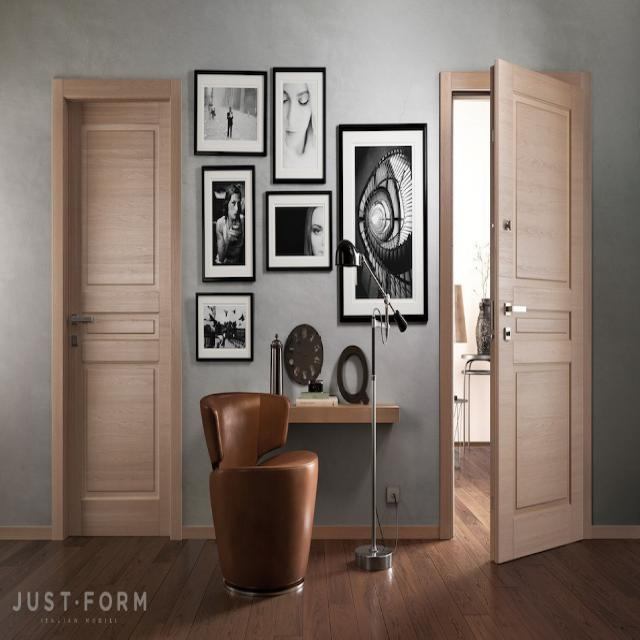close: (61, 98, 174, 532)
open: (444, 83, 590, 552)
